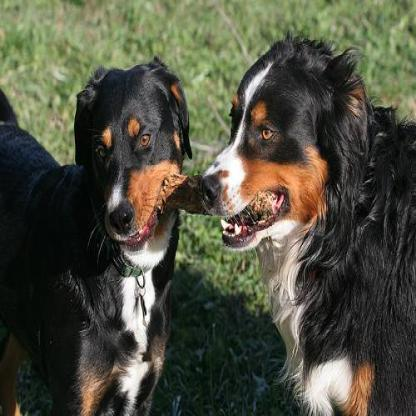Appenzeller: (198, 30, 414, 413), (0, 53, 191, 413)
